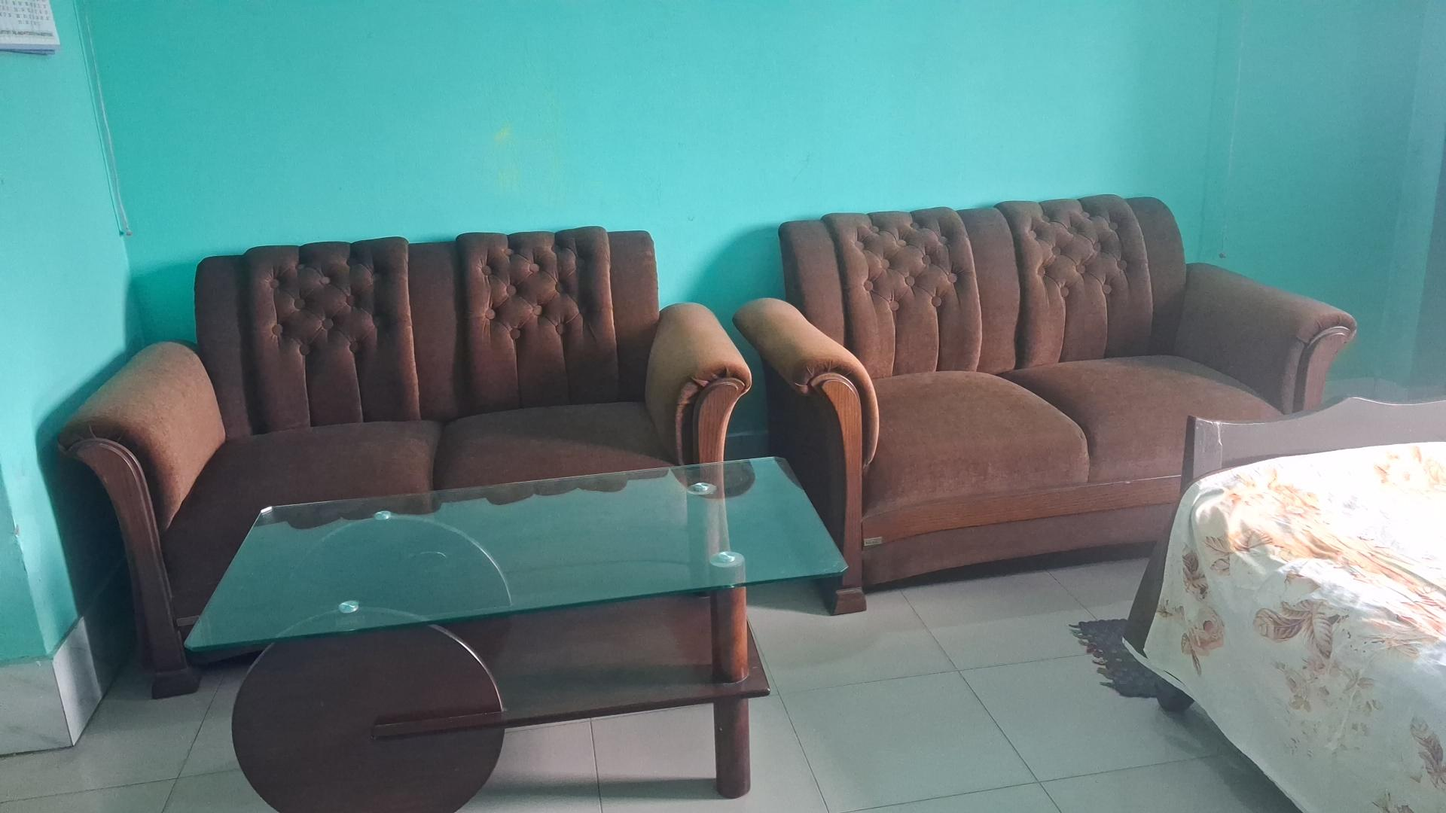Table: (182, 447, 859, 809)
